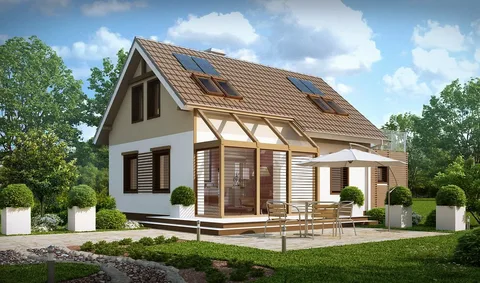private_hause: (103, 29, 393, 229)
